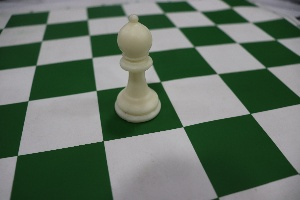white_bishop: (104, 5, 172, 127)
